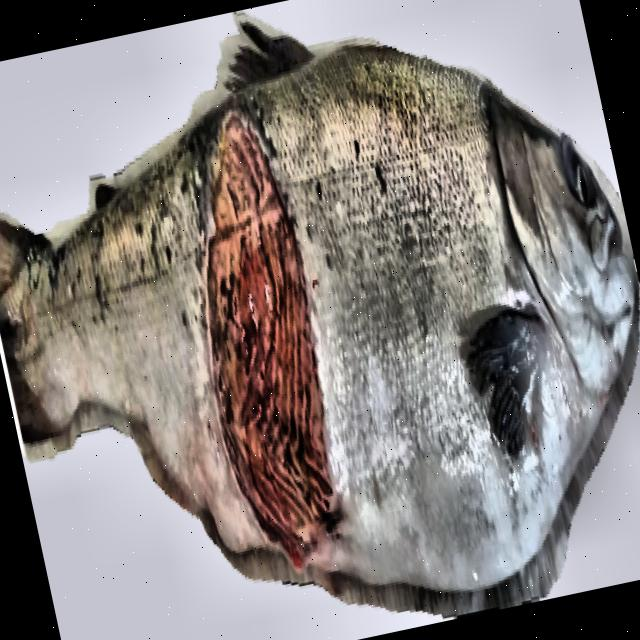wound: (206, 119, 332, 565)
